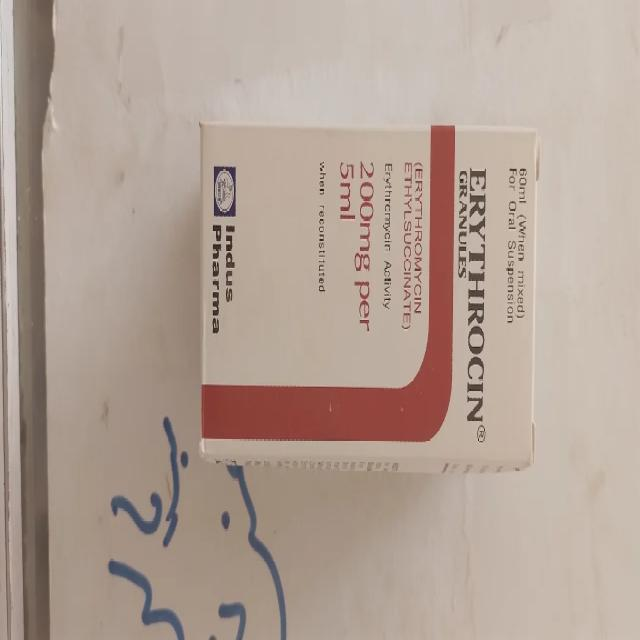drug-name: (468, 161, 486, 425)
